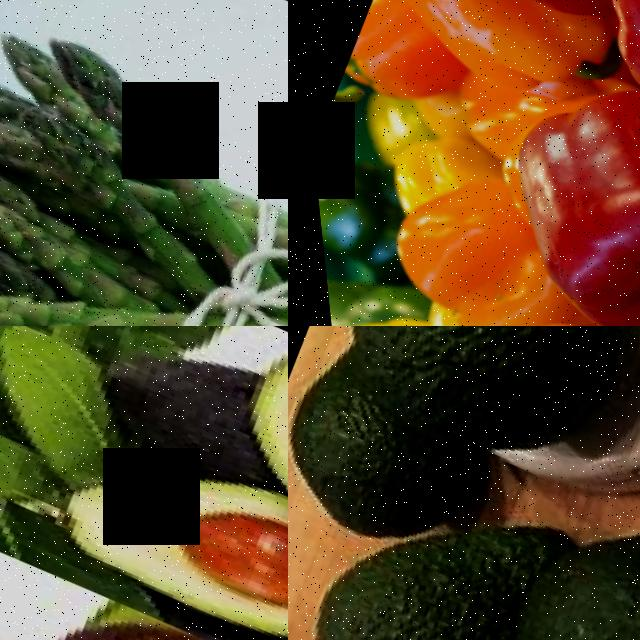asparagus: (20, 8, 241, 187), (0, 212, 236, 326), (0, 94, 122, 224), (0, 175, 109, 306)
avocado: (292, 326, 640, 539), (13, 403, 288, 640), (288, 440, 574, 640), (288, 360, 495, 581), (410, 472, 640, 640), (174, 326, 288, 626), (0, 561, 288, 640)
bell pepper: (465, 52, 640, 326), (373, 189, 569, 326), (361, 0, 598, 108), (391, 0, 640, 51)
